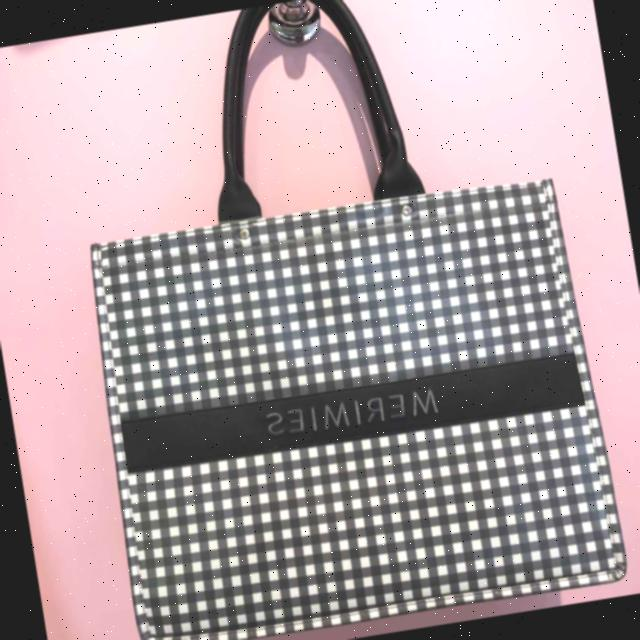Handbag: (63, 136, 640, 640)
